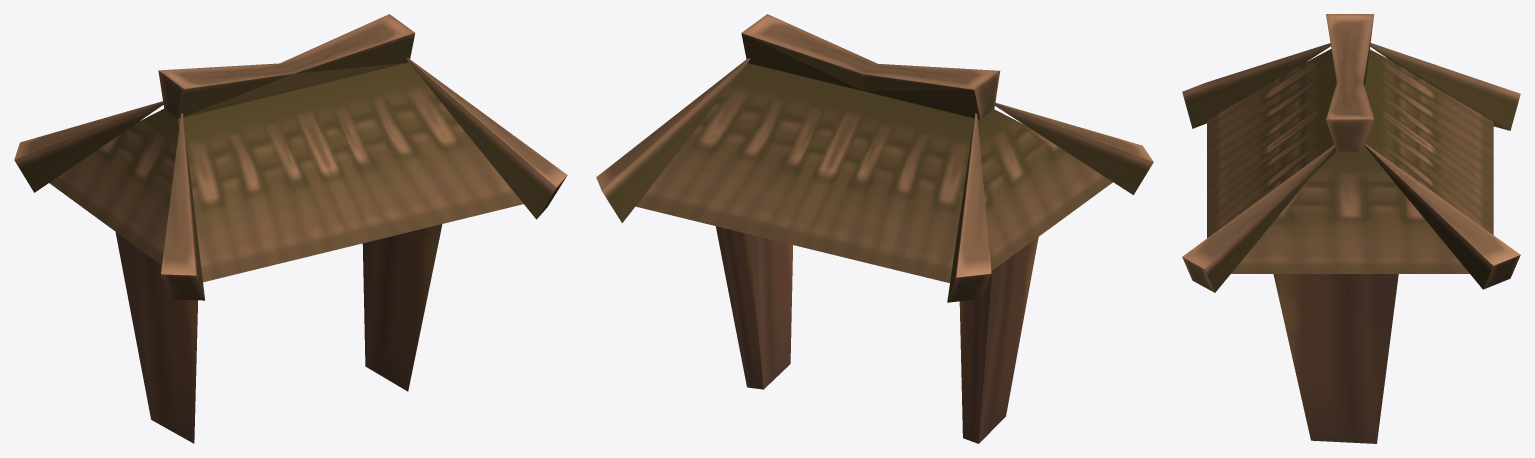
Rendered from zhucheng01_CaoPeng.FBX.
The picture shows the model from 3 angles, left to right: view 1: azimuth 30°, elevation 25°; view 2: azimuth 150°, elevation 25°; view 3: azimuth 270°, elevation 25°; orthographic projection. The views are drawn at different scales.
Visible parts, largest first — view 1: Building_HeiShi01; view 2: Building_HeiShi01; view 3: Building_HeiShi01.
Part boxes in pixels (x1,y1,x2,y2): Building_HeiShi01: (14,14,567,443); Building_HeiShi01: (596,14,1153,443); Building_HeiShi01: (1182,14,1520,443).
Bounding box in the file's own units: 8.45 × 6.93 × 6.49.
